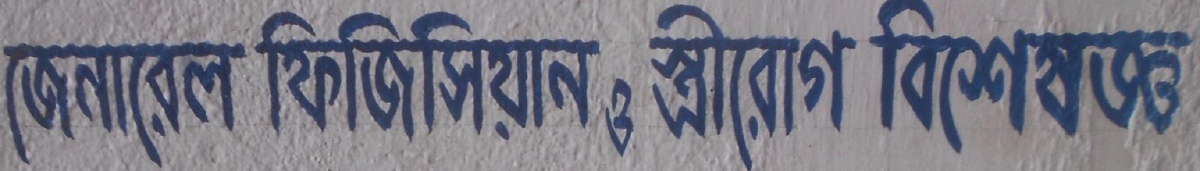text: (657, 2, 672, 171), (673, 2, 688, 171), (689, 2, 704, 171), (705, 2, 720, 171), (721, 2, 736, 171), (737, 2, 752, 171), (753, 2, 768, 171), (769, 2, 784, 171), (785, 2, 800, 171), (801, 2, 816, 171), (817, 2, 832, 171), (833, 2, 848, 171), (881, 1, 896, 156), (897, 1, 912, 156), (913, 1, 928, 156), (929, 1, 944, 156), (945, 1, 960, 156), (961, 1, 976, 156), (977, 1, 992, 156), (993, 1, 1008, 156), (1009, 1, 1024, 156), (1025, 1, 1040, 156), (1041, 1, 1056, 156), (1057, 1, 1072, 156), (1073, 1, 1088, 156), (1089, 1, 1104, 156), (1105, 1, 1120, 156), (1121, 1, 1136, 156), (1137, 1, 1152, 156), (1153, 1, 1168, 156), (1169, 1, 1184, 156), (643, 2, 656, 171), (257, 8, 272, 145), (273, 8, 288, 145), (289, 8, 304, 145), (305, 8, 320, 145), (321, 8, 336, 145), (337, 8, 352, 145), (353, 8, 368, 145), (369, 8, 384, 145), (385, 8, 400, 145), (401, 8, 416, 145), (417, 8, 432, 145), (433, 8, 448, 145), (449, 8, 464, 145), (465, 8, 480, 145), (481, 8, 496, 145), (497, 8, 512, 145), (513, 8, 528, 145), (529, 8, 544, 145), (545, 8, 560, 145), (561, 8, 576, 145), (577, 8, 592, 145), (17, 41, 32, 171), (33, 41, 48, 171), (49, 41, 64, 171), (65, 41, 80, 171), (81, 41, 96, 171), (97, 41, 112, 171), (113, 41, 128, 171), (129, 41, 144, 171), (145, 41, 160, 171), (161, 41, 176, 171), (177, 41, 192, 171), (193, 41, 208, 171), (209, 41, 224, 171), (225, 41, 240, 171), (868, 1, 880, 156), (849, 2, 859, 171), (241, 41, 253, 171), (5, 41, 16, 171), (1185, 1, 1194, 156), (593, 8, 602, 145), (609, 80, 624, 156), (625, 80, 636, 156), (254, 8, 256, 145), (606, 80, 608, 156)
